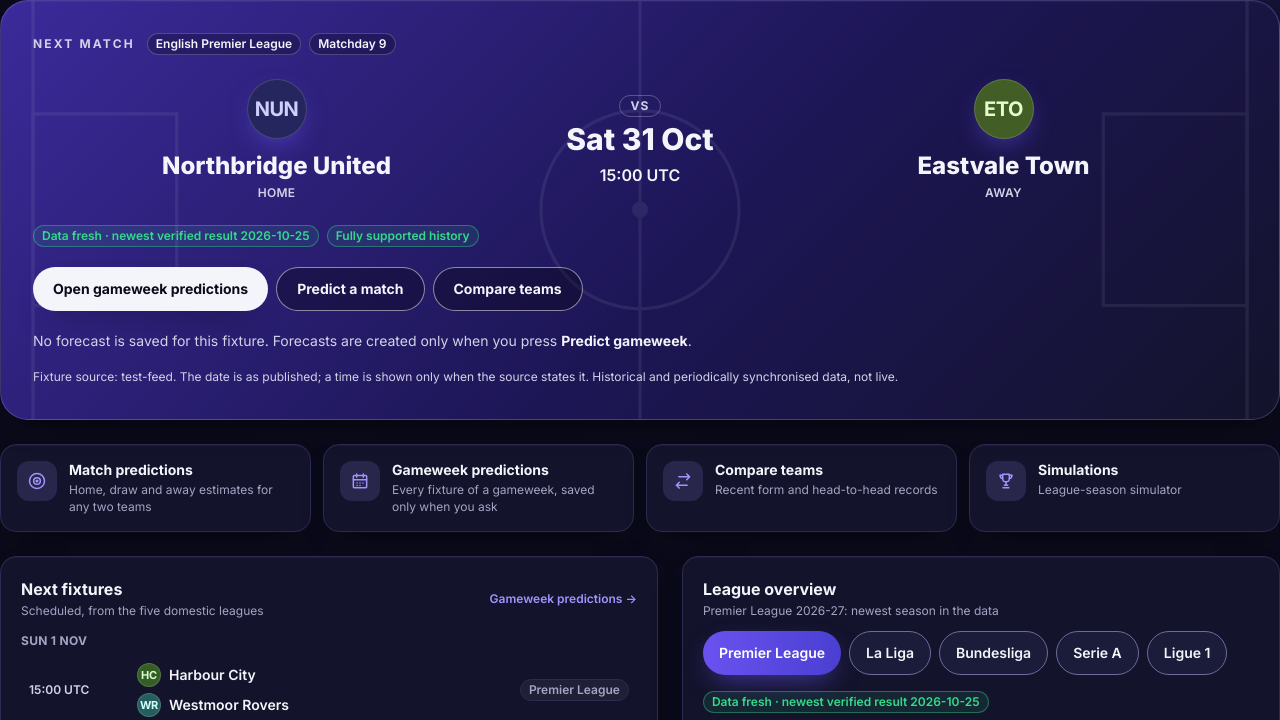
Test: Home: league overview › says when a league has no stored season, or no result in it yet
The image size is (1280, 720).
Click the radio button labelled "La Liga".
click(890, 653)  # box [849,631,931,675]
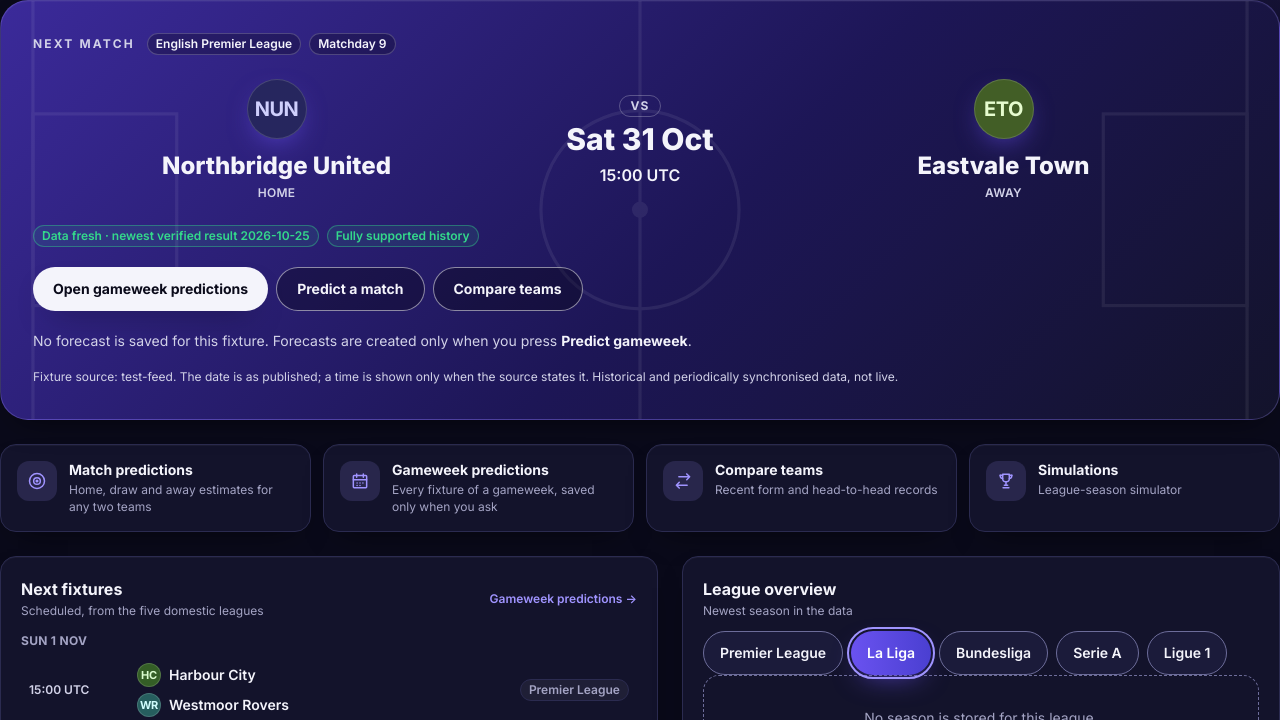
Click the radio button labelled "Bundesliga".
click(994, 653)  # box [939,631,1048,675]
(page scrolled)
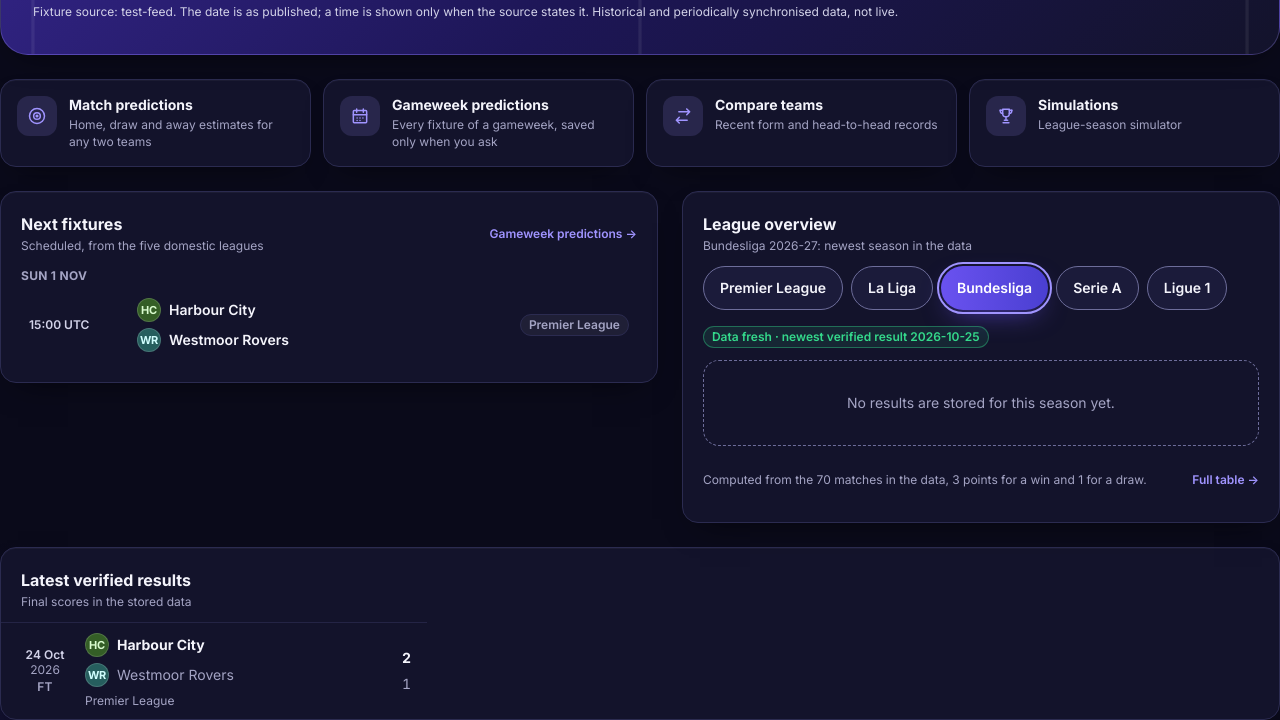
Now the text "No results are stored for this season yet." is shown, box [703,360,1259,446]
